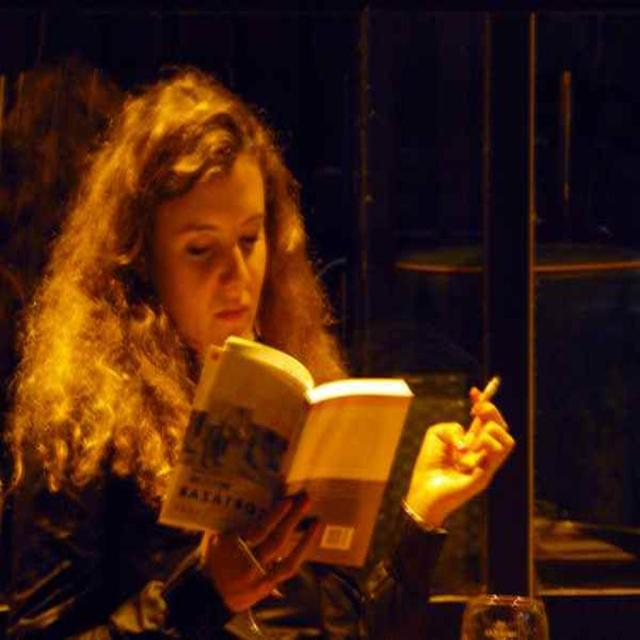smoking: (124, 82, 512, 520)
